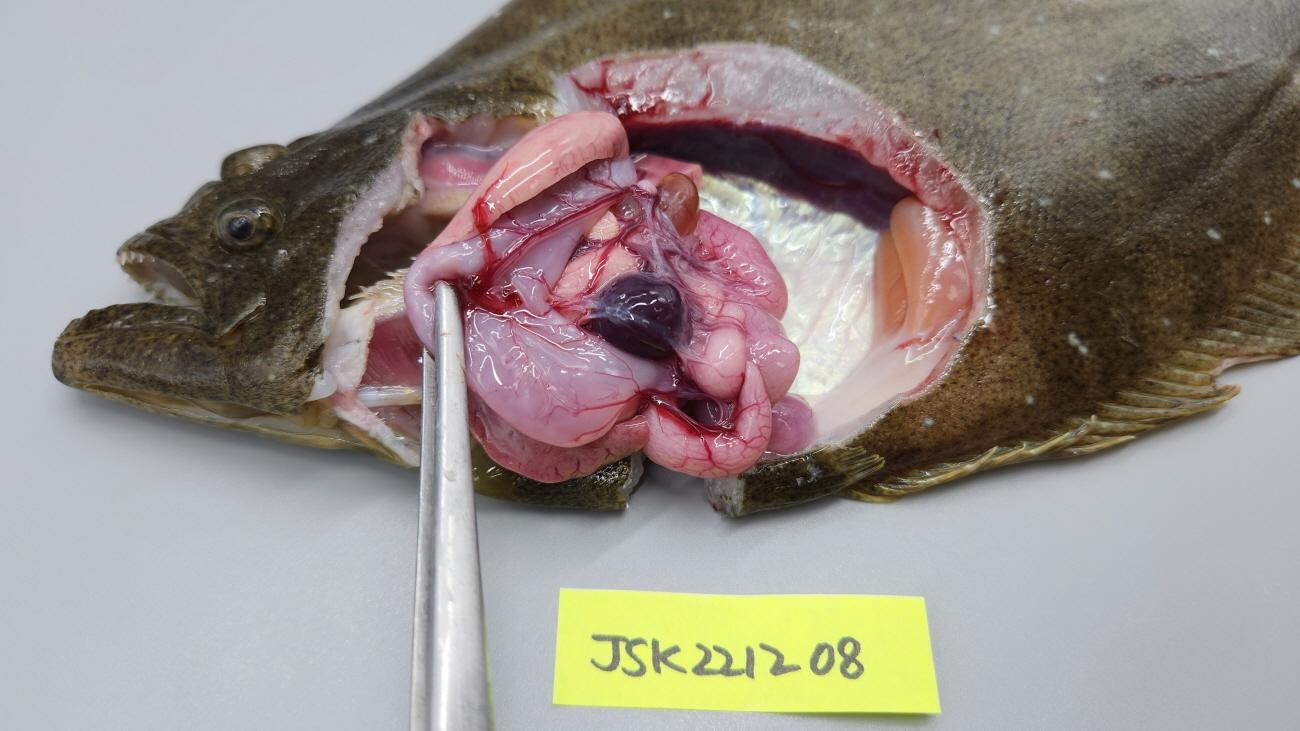VISPE: (591, 275, 694, 363)
